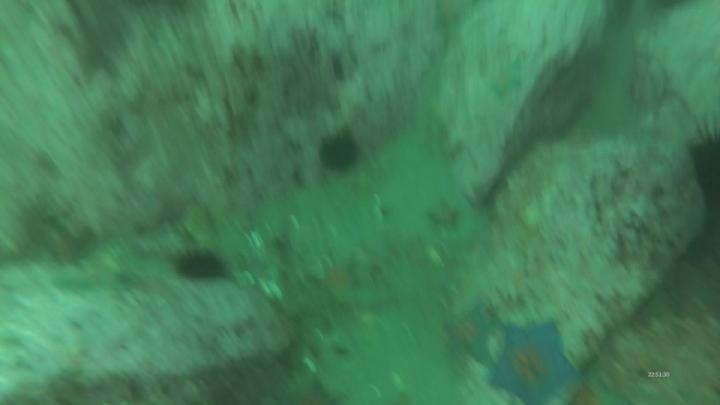echinus: (684, 120, 720, 210), (172, 246, 230, 285), (316, 129, 363, 176)
starfish: (486, 318, 620, 405), (438, 301, 500, 368), (312, 254, 366, 306), (481, 55, 528, 103), (274, 372, 342, 404), (424, 196, 466, 234)
